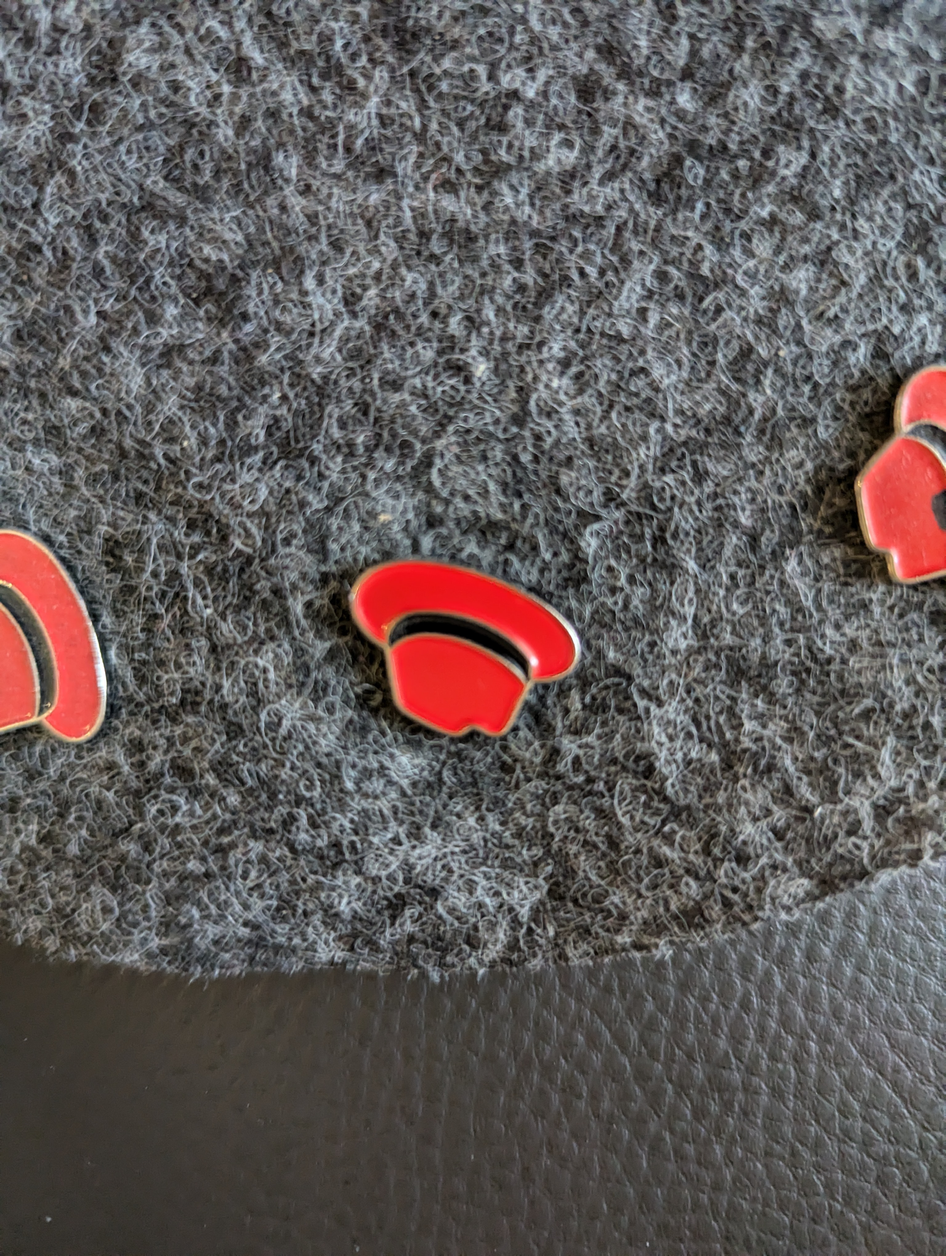Red-Hat: (300, 476, 620, 792), (787, 281, 946, 643), (0, 477, 151, 801)
Scratch: (902, 457, 946, 565)
